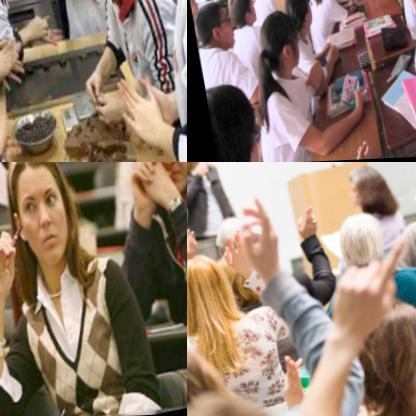head: (336, 290, 416, 416), (0, 162, 80, 279), (202, 75, 261, 162), (187, 251, 240, 329), (329, 206, 386, 274), (256, 8, 304, 84), (191, 0, 238, 63), (344, 166, 391, 216), (134, 162, 187, 200), (278, 0, 317, 45), (224, 0, 258, 37), (404, 163, 416, 233)
